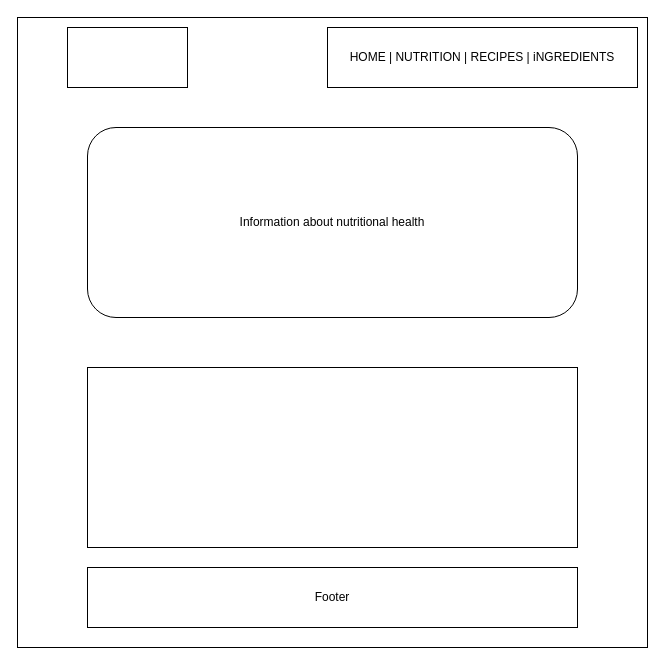
Image size: 665x665. Some labels were removed from this diagram. Here are the shapes that lost their labels. From the top down, the centre of each, then its label:
At pixel 127 57: "TITLE".
At pixel 332 457: "Contact Form".
